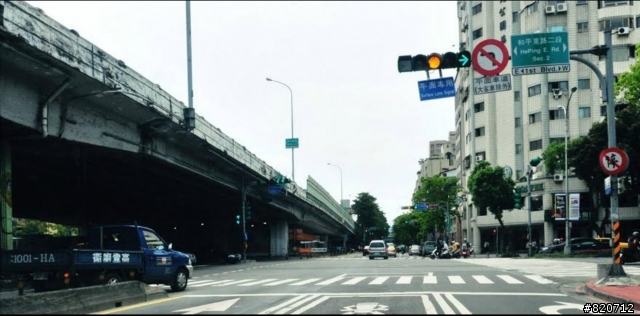No_left_turn: (472, 39, 508, 75)
